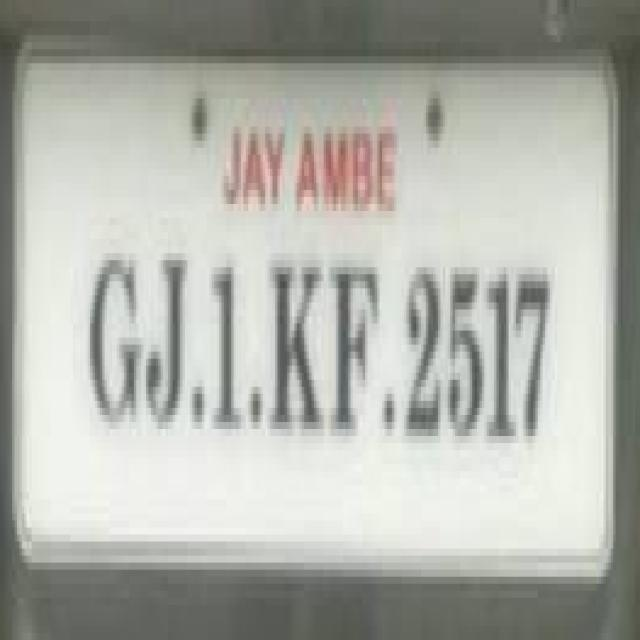license_plate: (12, 78, 599, 556)
